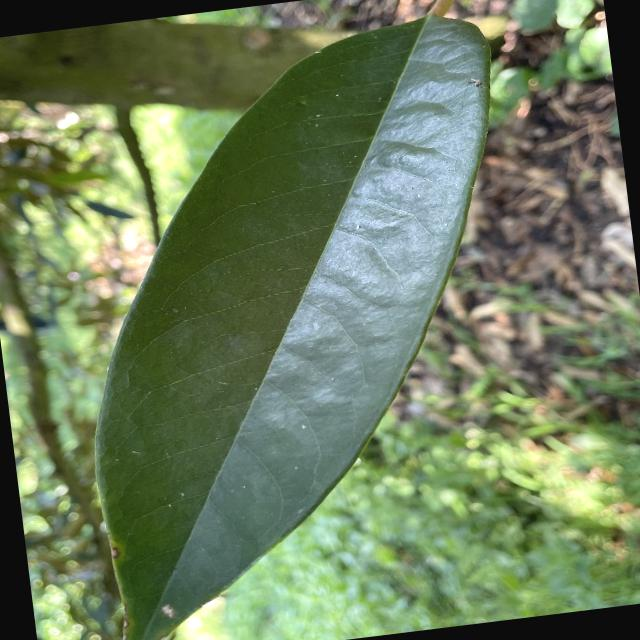No Disease: (29, 2, 568, 639)
